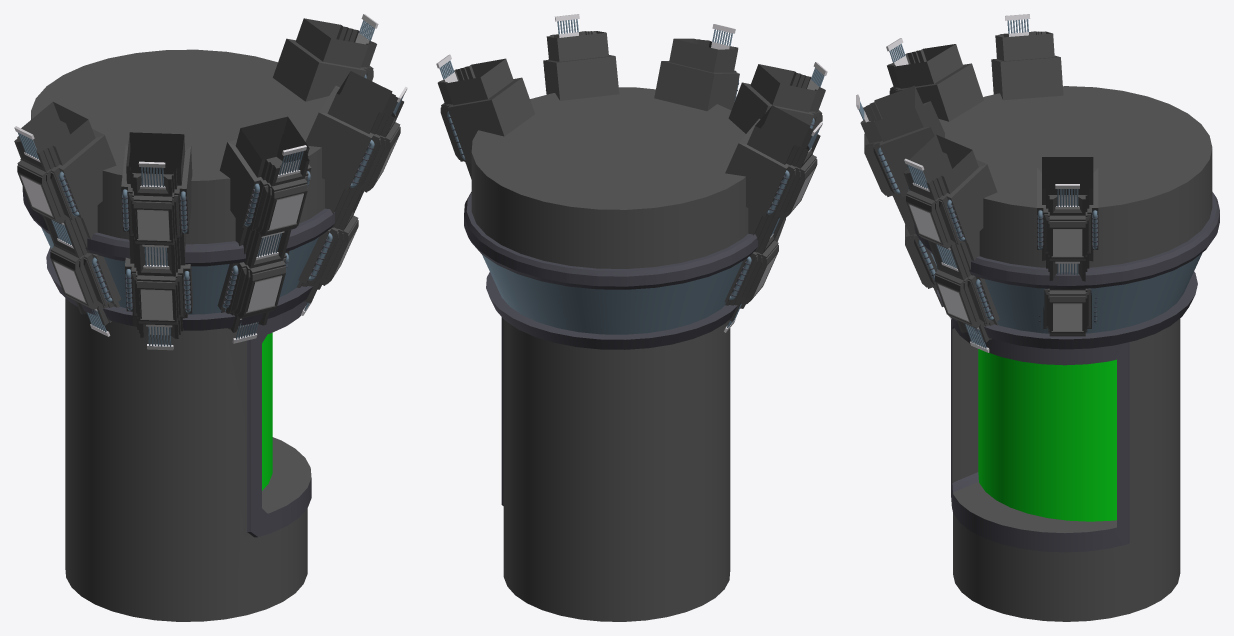
The model's file is tak.fbx.
3 renders of one model, left to right at view 1: azimuth 30°, elevation 25°; view 2: azimuth 150°, elevation 25°; view 3: azimuth 270°, elevation 25°, orthographic. The views are drawn at different scales.
Parts seen in each view (by area): view 1: Cylinder.019, Cube.014, Cube.011, Cube.015, Cube.013, Cube.012; view 2: Cylinder.019, Cube.014, Cube.012, Cube.011, Cube.013, Cube.015; view 3: Cylinder.019, Cube.013, Cube.012, Cube.011, Cube.015, Cube.014.
Part boxes in pixels (x1=…): Cylinder.019: x1=22, y1=49, x2=334, y2=621; Cube.014: x1=14, y1=102, x2=120, y2=336; Cube.011: x1=217, y1=116, x2=311, y2=343; Cube.015: x1=121, y1=132, x2=192, y2=350; Cube.013: x1=296, y1=71, x2=407, y2=315; Cube.012: x1=273, y1=14, x2=378, y2=101; Cylinder.019: x1=464, y1=87, x2=757, y2=621; Cube.014: x1=724, y1=105, x2=822, y2=332; Cube.012: x1=436, y1=54, x2=534, y2=179; Cube.011: x1=654, y1=24, x2=739, y2=110; Cube.013: x1=543, y1=14, x2=619, y2=100; Cube.015: x1=728, y1=62, x2=827, y2=241; Cylinder.019: x1=914, y1=86, x2=1219, y2=621; Cube.013: x1=903, y1=134, x2=999, y2=352; Cube.012: x1=1037, y1=157, x2=1098, y2=336; Cube.011: x1=856, y1=85, x2=951, y2=319; Cube.015: x1=886, y1=38, x2=983, y2=121; Cube.014: x1=991, y1=14, x2=1063, y2=100.
Bounding box in the file's own units: 4046 × 5213 × 3602.
